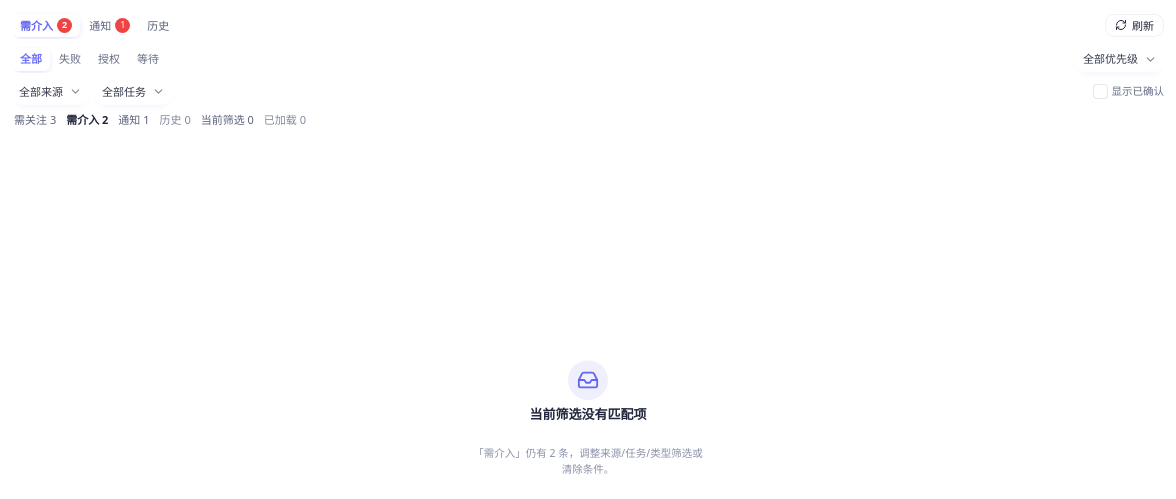
Test: ActionCenterPanel 三层展示 › 切换到通知分类后不展示优先级筛选，并显示通知空态
Click the button "通知 1": point(110, 25) 81,14 -> 138,37
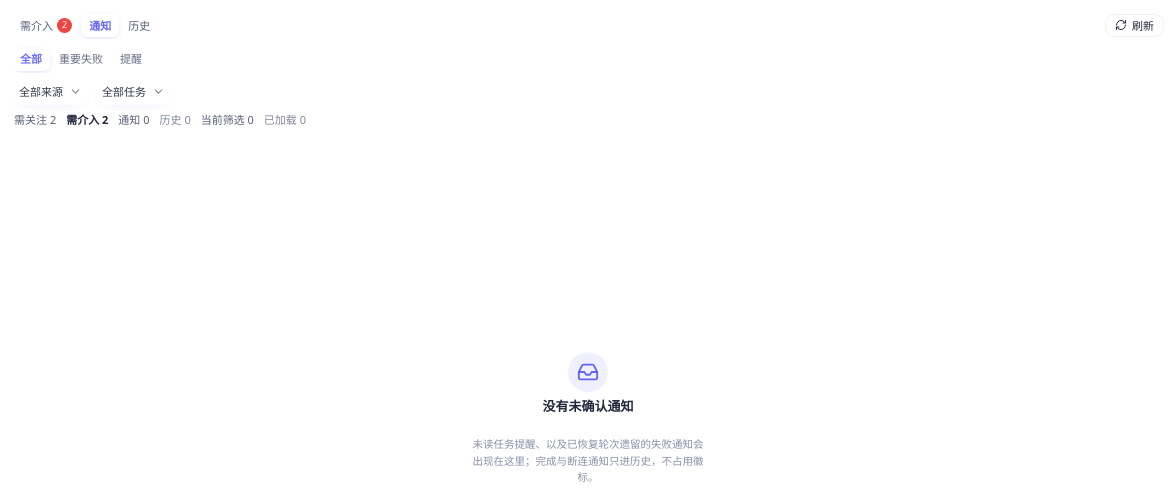
Expected: the text "没有未确认通知" is shown, 542,396 -> 634,415
Expected: the dropdown labelled "优先级筛选" is gone
